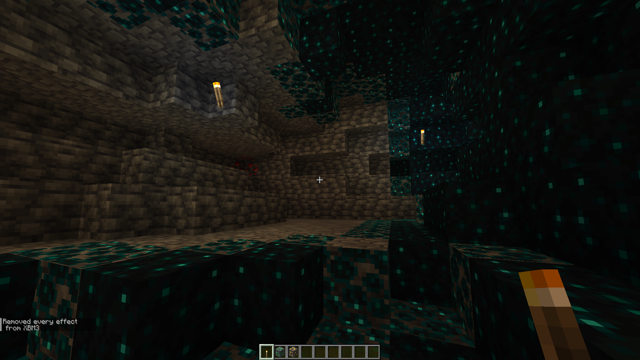redstone: (234, 158, 260, 177)
